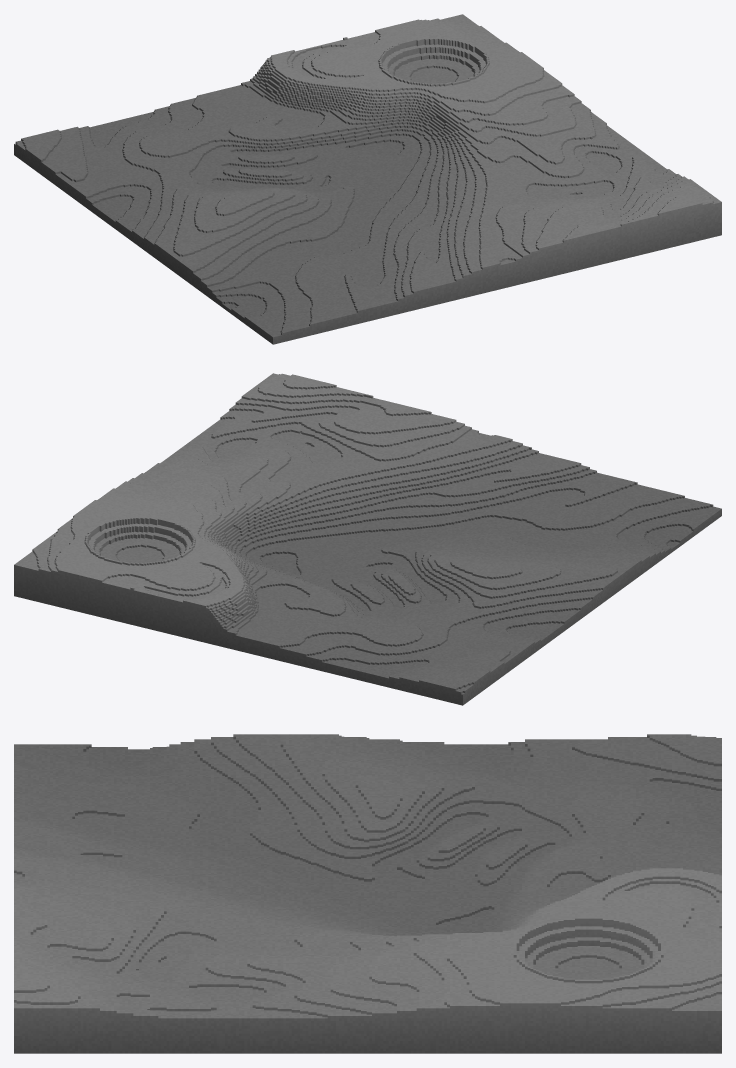
File: LunaGrande-1.obj
The picture shows the model from 3 angles, top to bottom: view 1: azimuth 30°, elevation 25°; view 2: azimuth 150°, elevation 25°; view 3: azimuth 270°, elevation 25°; orthographic projection. The views are drawn at different scales.
Size of the model in its own units: 25.5 by 2.1 by 25.5.
Materials: 1 (1 with a texture image).
